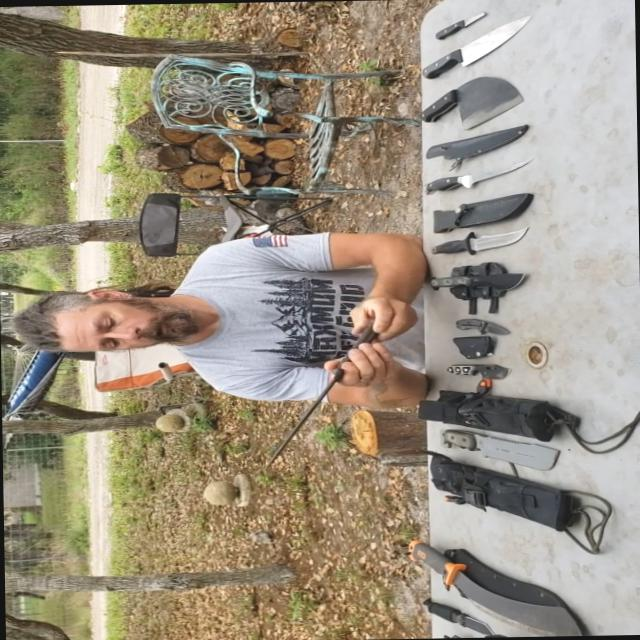knife: (273, 294, 400, 472), (402, 542, 572, 638), (401, 0, 545, 79), (408, 256, 566, 304), (421, 412, 542, 472), (422, 208, 538, 268), (415, 72, 523, 122), (420, 153, 552, 184), (430, 296, 524, 338), (434, 0, 492, 45), (427, 602, 494, 636), (444, 353, 526, 378)
